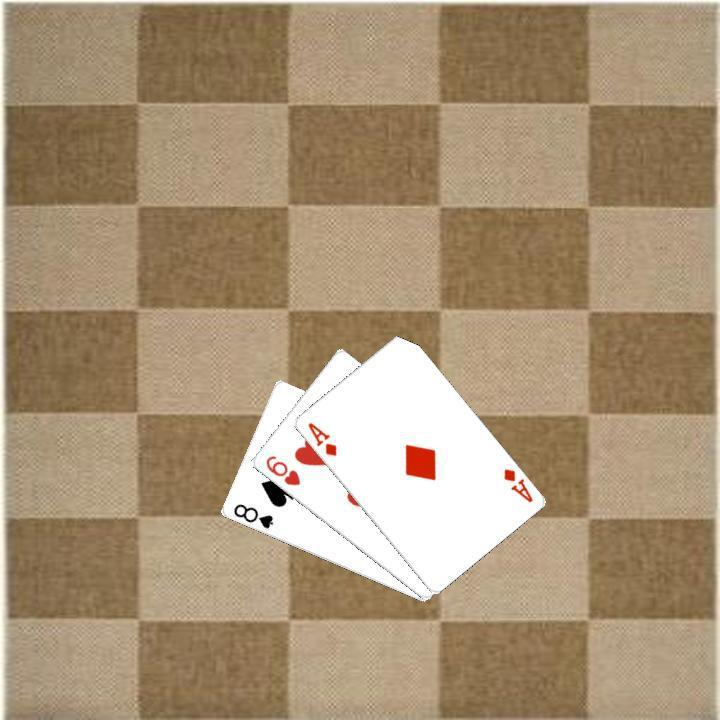6: (261, 451, 302, 488)
8: (229, 499, 275, 531)
A: (303, 418, 338, 458), (499, 464, 534, 504)
